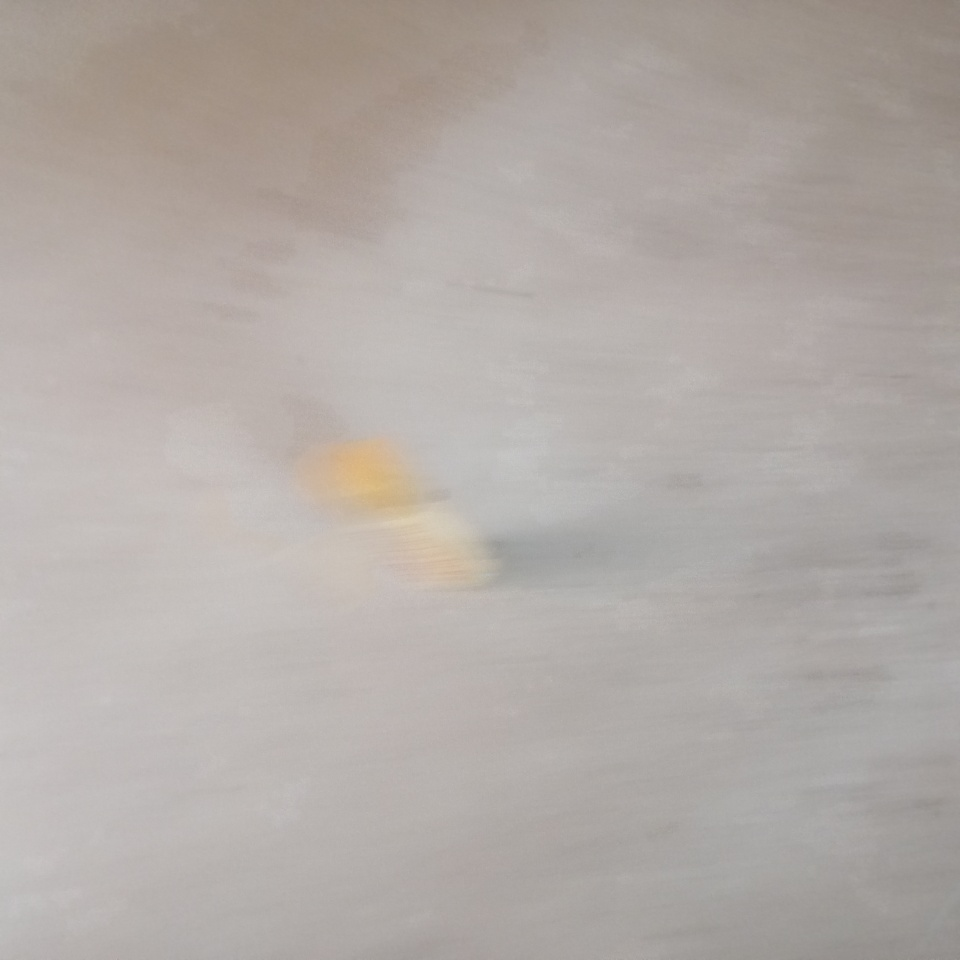chapstick: (312, 438, 510, 602)
